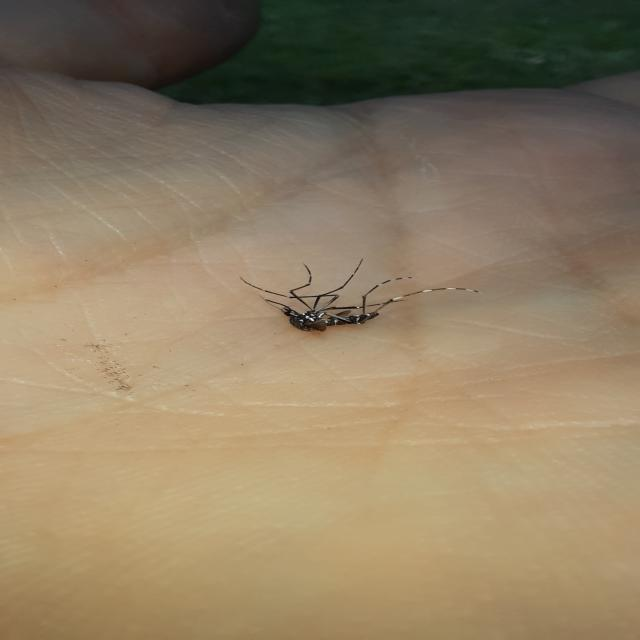albopictus: (241, 255, 481, 338)
